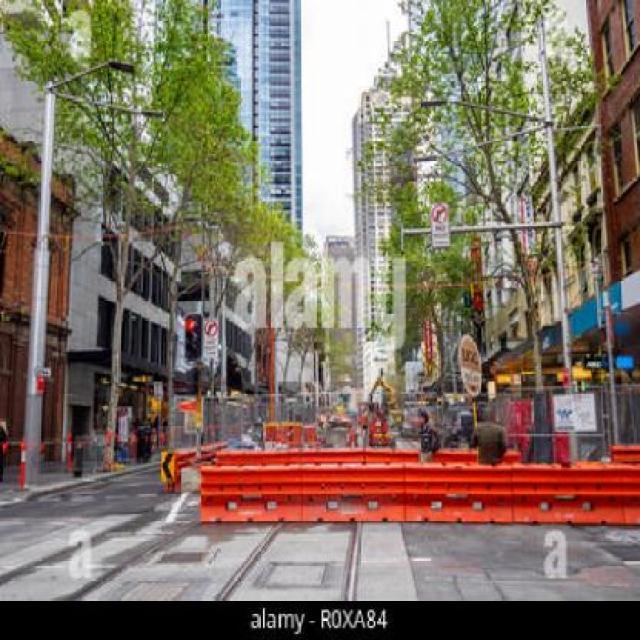fallen_object: (177, 445, 640, 541)
